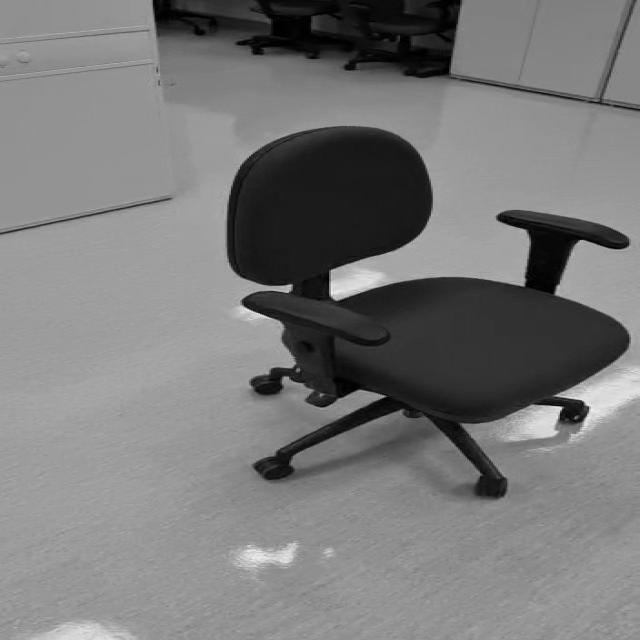chair: (226, 125, 628, 497)
